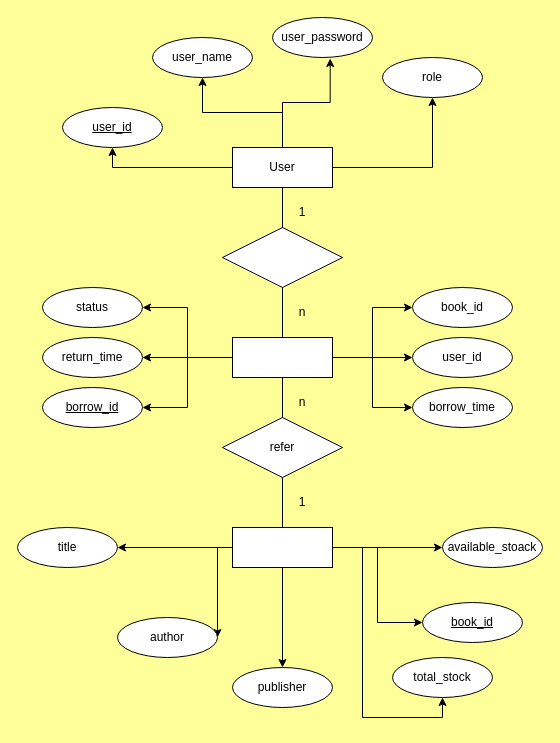
The diagram is 560 pixels wide and 743 high, and some of its shapes have lost their labels. The box of each missing label's shape, as (x1, y1, x2, y2) in pixels:
Book: (232, 526, 332, 568)
Borrow_record: (232, 336, 332, 378)
produce: (222, 226, 342, 288)
